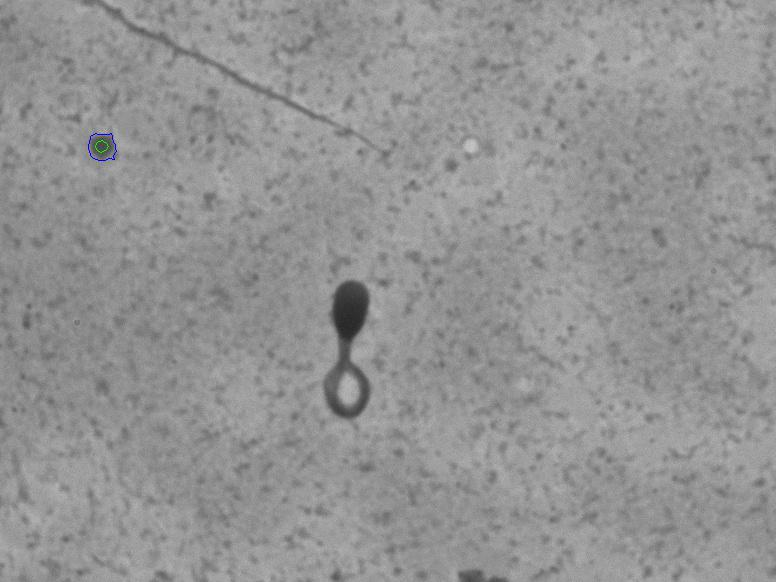Abnormal: (282, 255, 423, 440)
